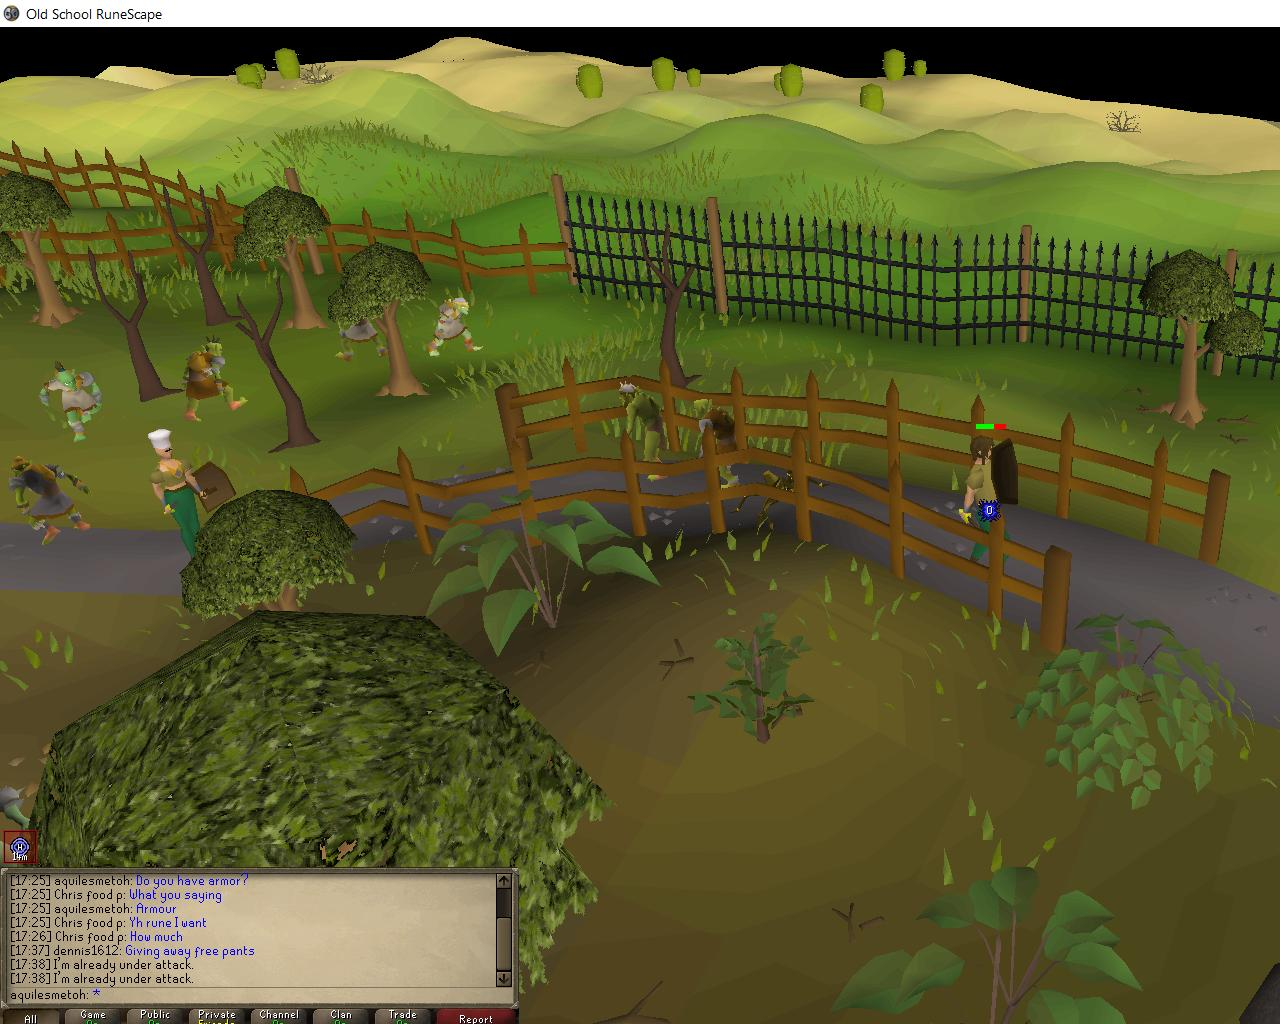Goblin: (1, 453, 93, 546), (615, 381, 681, 484), (176, 339, 248, 426), (692, 396, 752, 497), (38, 362, 103, 443), (425, 296, 489, 358)
